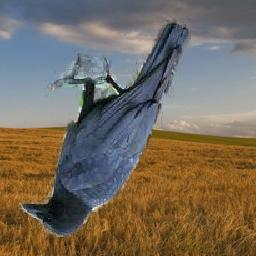Crow: (19, 15, 191, 237)
